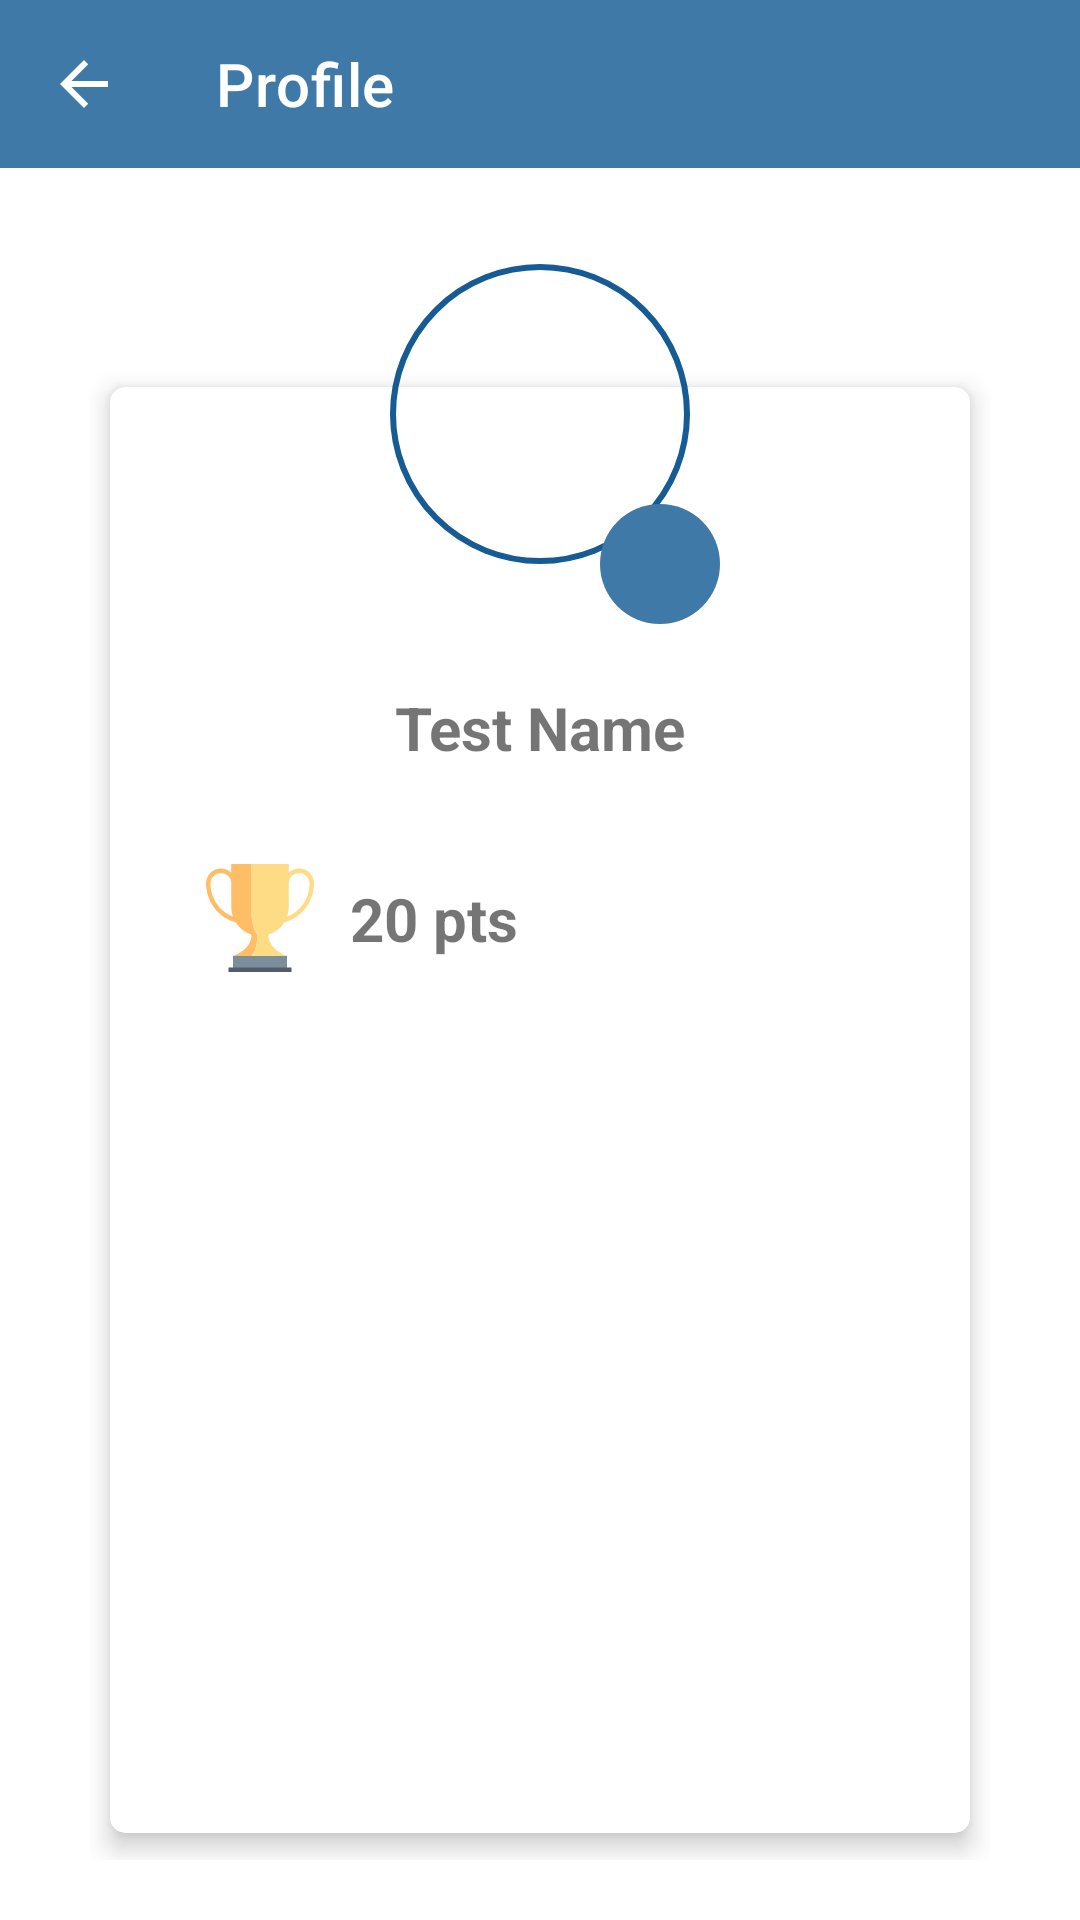

Screen size 1080×1920. Icon name, then its box in pixels as Rect(x1, y1, x2, y2):
trophy: Rect(206, 864, 314, 972)
